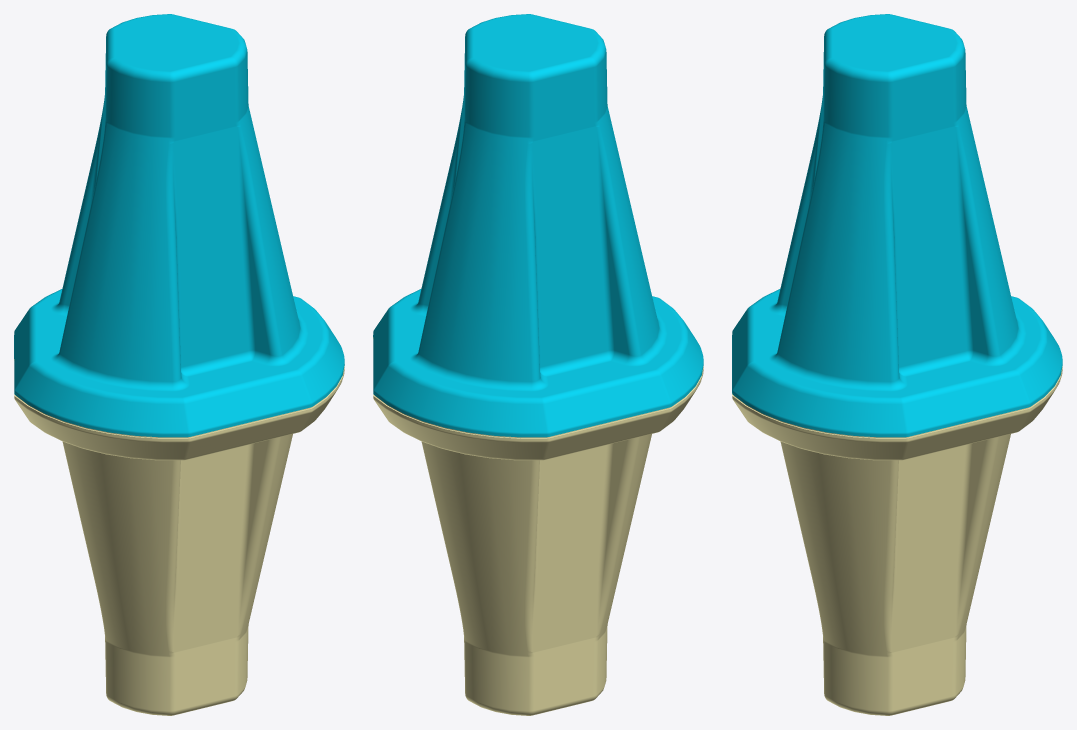
Rendered from V5RC-Override-H2H-_-BlueYellowPin.glb.
The picture shows the model from 3 angles, left to right: view 1: azimuth 30°, elevation 25°; view 2: azimuth 150°, elevation 25°; view 3: azimuth 270°, elevation 25°; orthographic projection.
Visible parts, largest first — view 1: V5RC-Override-H2H-_-BlueYellowPin; view 2: V5RC-Override-H2H-_-BlueYellowPin; view 3: V5RC-Override-H2H-_-BlueYellowPin.
Part boxes in pixels (box(x1,y1,x2,y2)): V5RC-Override-H2H-_-BlueYellowPin: box(14, 14, 344, 715); V5RC-Override-H2H-_-BlueYellowPin: box(373, 14, 703, 715); V5RC-Override-H2H-_-BlueYellowPin: box(732, 14, 1062, 715).
Size of the model in its own units: 0.0801 by 0.165 by 0.0768.
